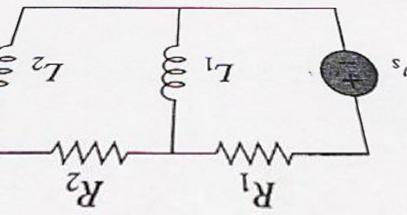inductor: (148, 29, 197, 109)
